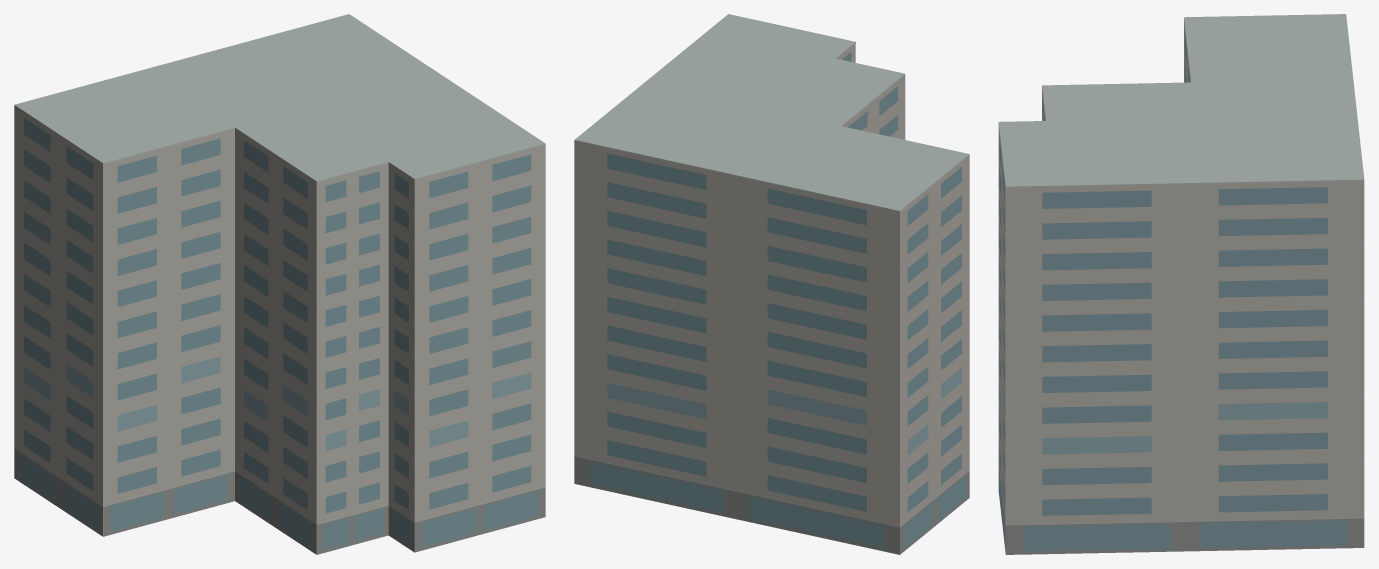
File: residential-286d166f-b6b8-4630-be53-9c5b99586336.glb
3 views of the same model, side by side, from view 1: azimuth 30°, elevation 25°; view 2: azimuth 150°, elevation 25°; view 3: azimuth 270°, elevation 25° (orthographic). The views are drawn at different scales.
Parts seen in each view (by area): view 1: residential-286d166f-b6b8-4630-be53-9c5b99586336.tmp; view 2: residential-286d166f-b6b8-4630-be53-9c5b99586336.tmp; view 3: residential-286d166f-b6b8-4630-be53-9c5b99586336.tmp.
Part boxes in pixels (x1,y1,x2,y2): residential-286d166f-b6b8-4630-be53-9c5b99586336.tmp: [14, 14, 545, 554]; residential-286d166f-b6b8-4630-be53-9c5b99586336.tmp: [574, 14, 969, 554]; residential-286d166f-b6b8-4630-be53-9c5b99586336.tmp: [998, 14, 1364, 554].
Size of the model in its own units: 49.29 by 49 by 44.13.
